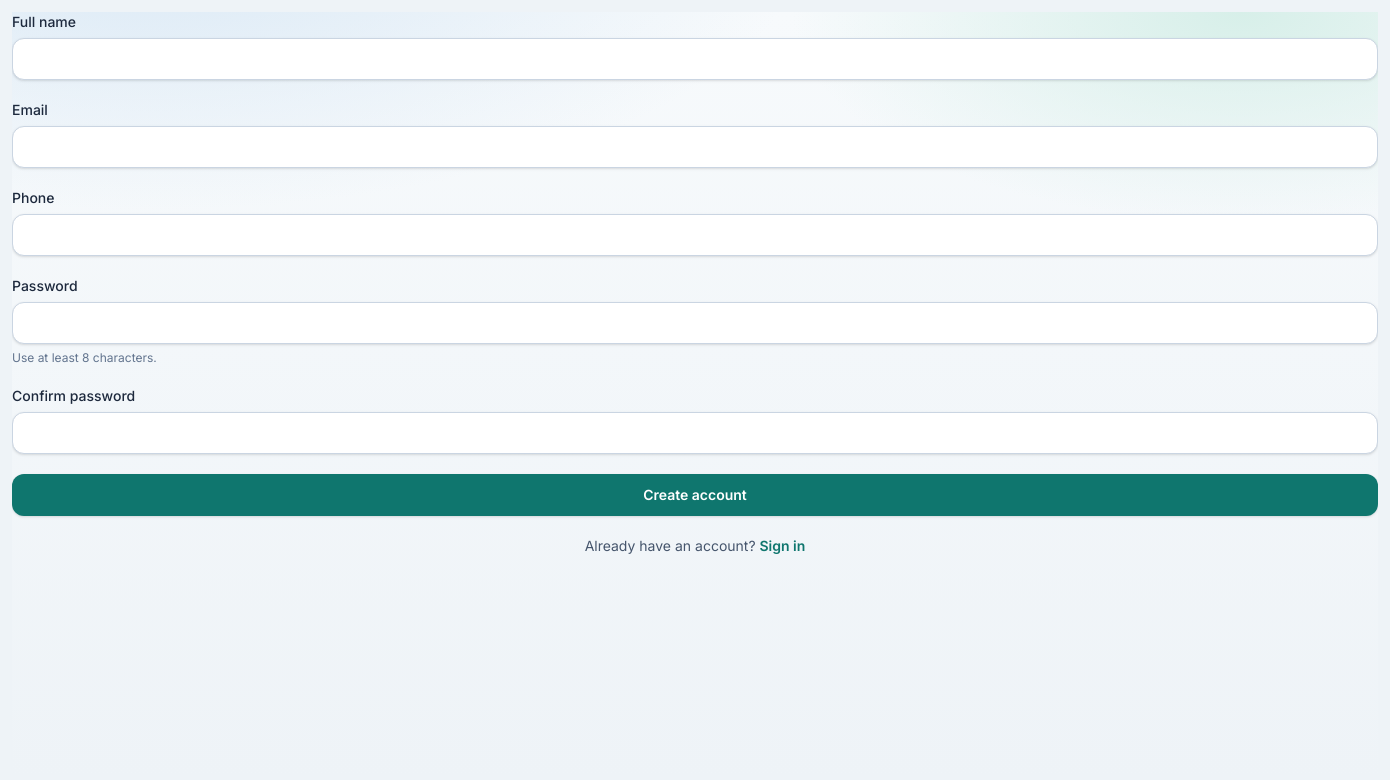
Test case: SignupForm › keeps values and displays a friendly Supabase rate-limit error
Type "Test Customer" into the field labelled "Full name". click: (695, 59)
box: [12,38,1378,80]
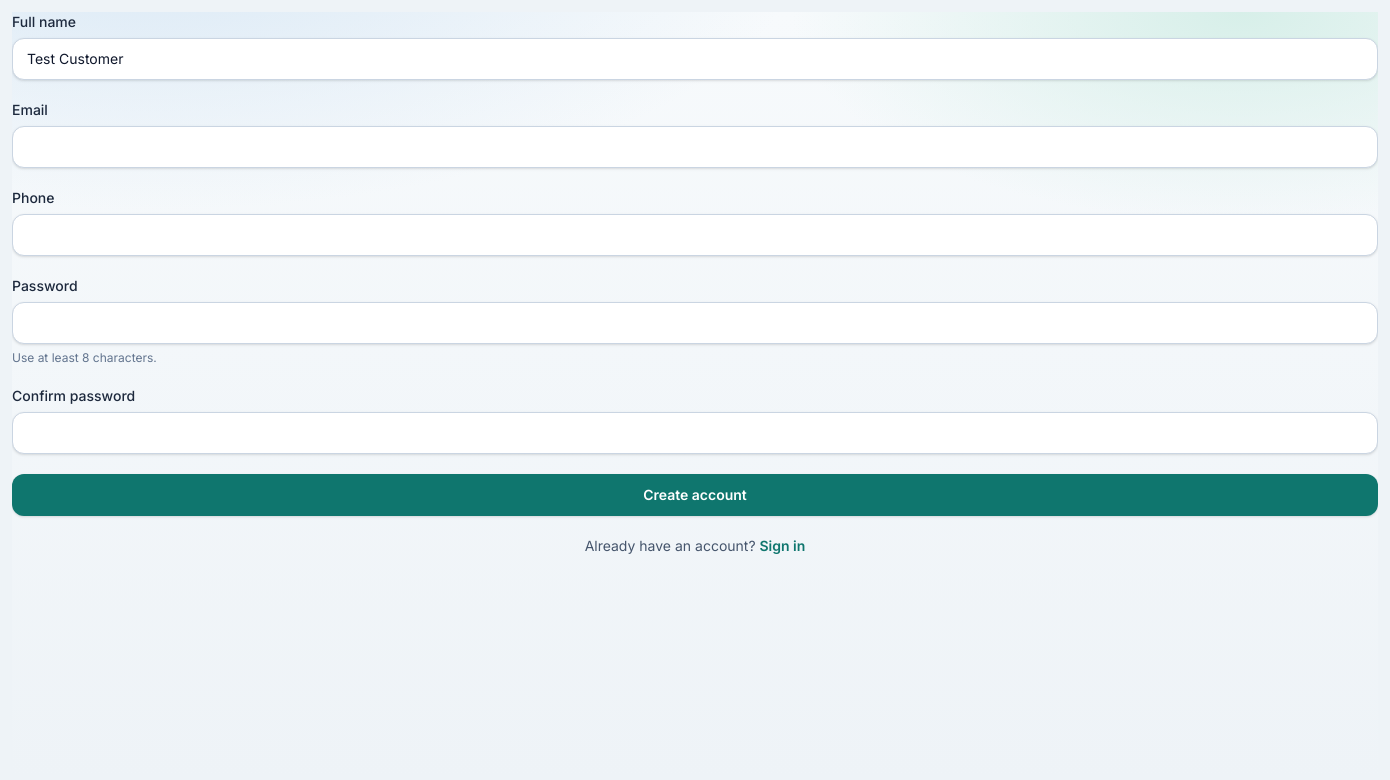
Type "customer@example.org" into the field labelled "Email". click: (695, 147)
box: [12,126,1378,168]
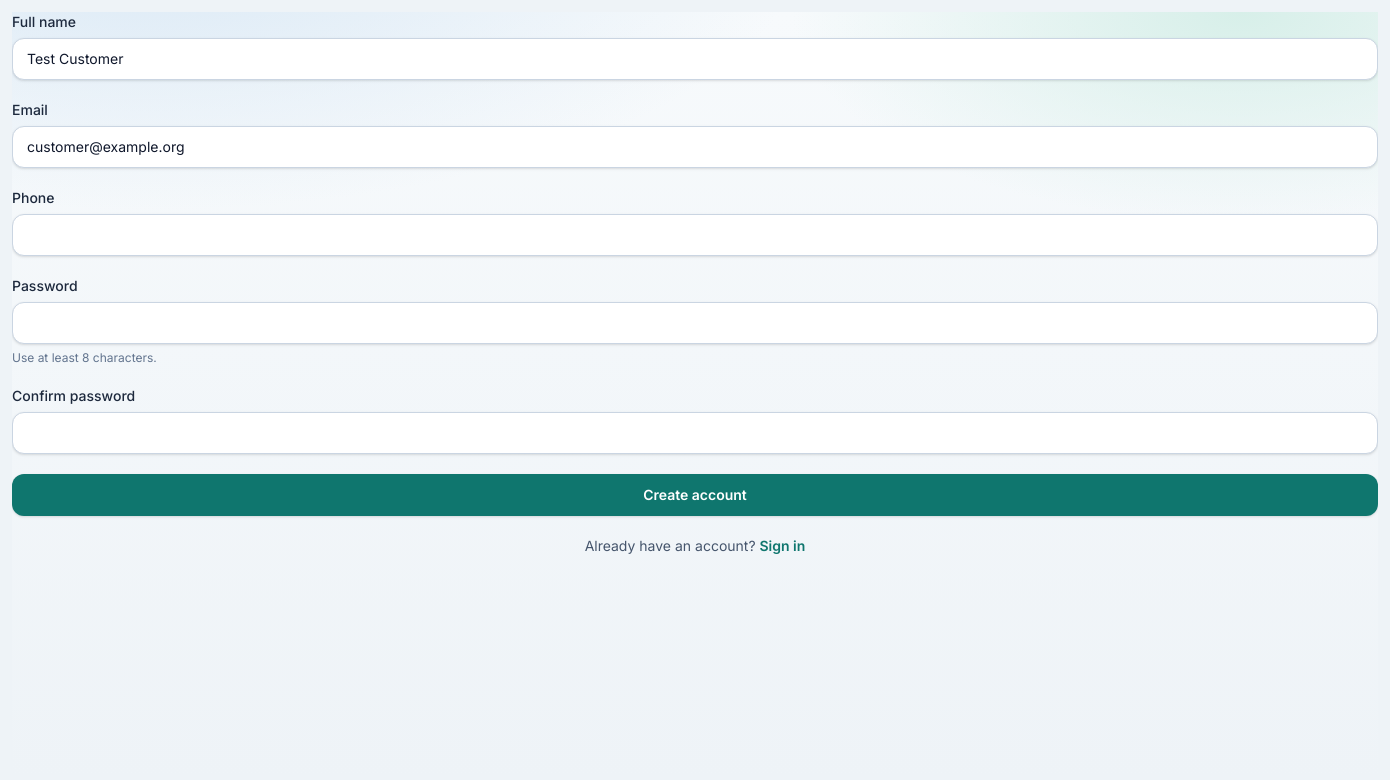
Type "+973 3000 0000" into the field labelled "Phone". click: (695, 235)
box: [12,214,1378,256]
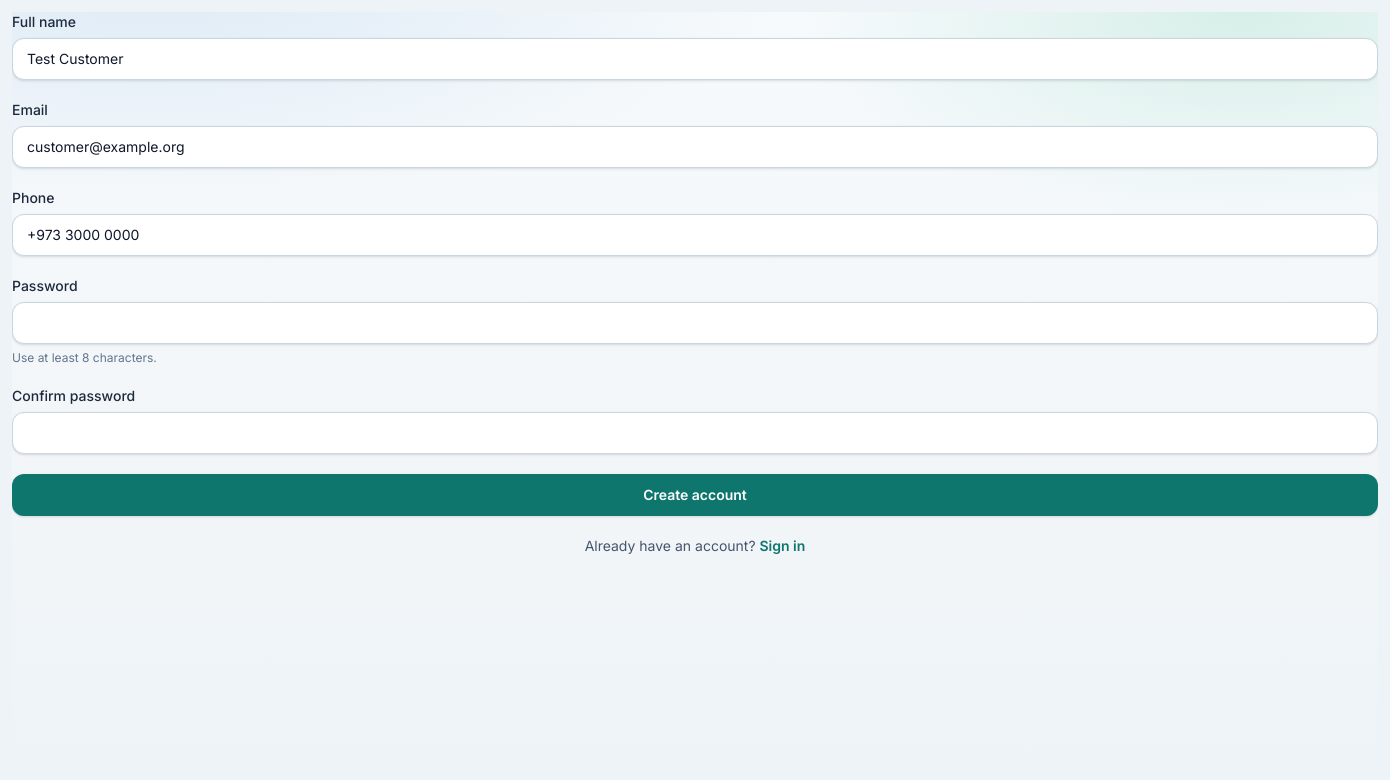
Type "password1" into the password field labelled "Password". click: (695, 323)
box: [12,302,1378,344]
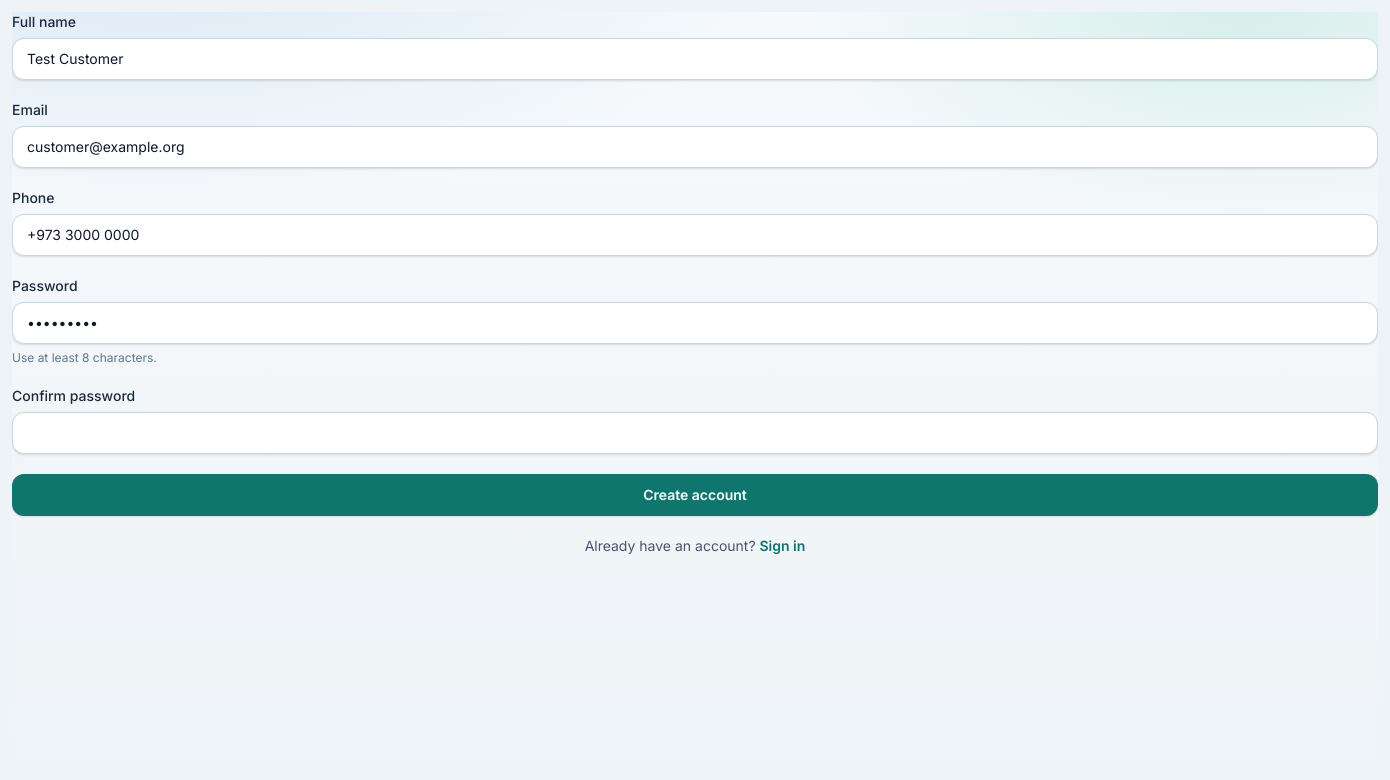
Type "password1" into the password field labelled "Confirm password". click: (695, 433)
box: [12,412,1378,454]
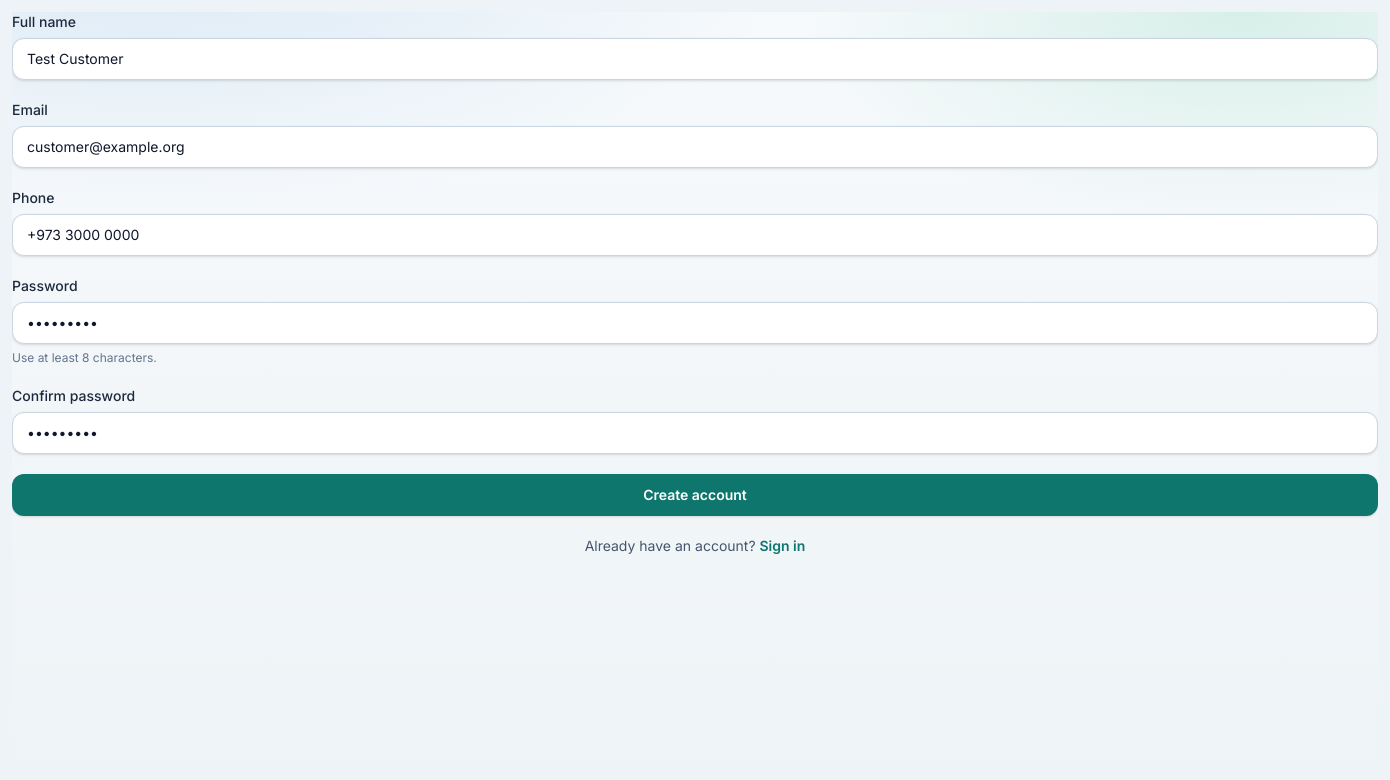
Click the button "Create account". click: (695, 495)
box: [12,474,1378,516]
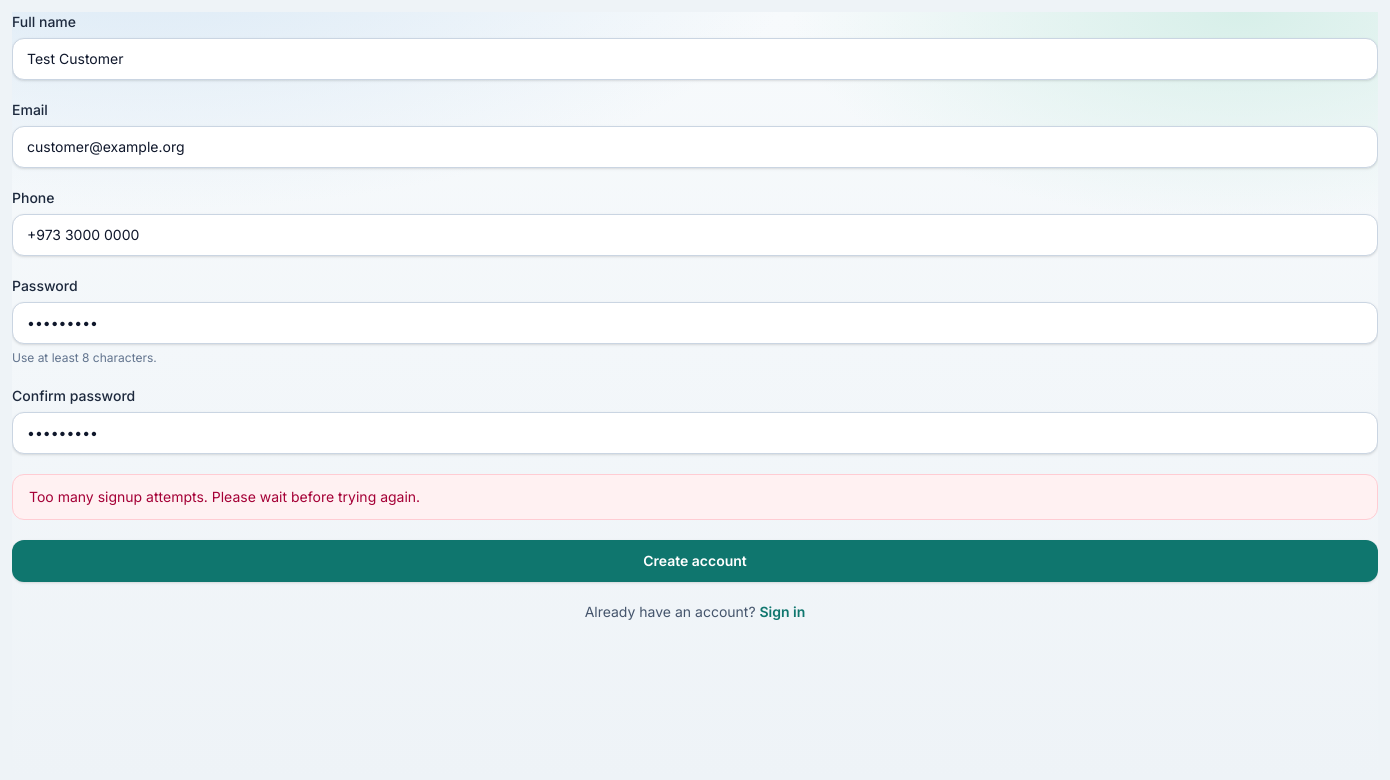
Now the text "Too many signup attempts. Please wait before trying again." is shown, box [12,474,1378,520]
